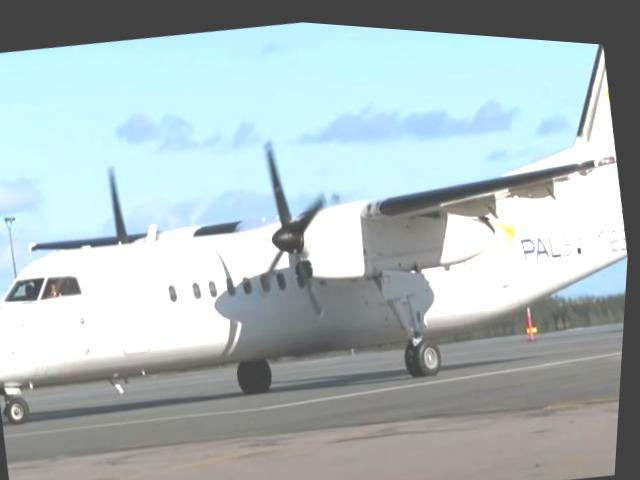iha: (0, 0, 640, 441)
